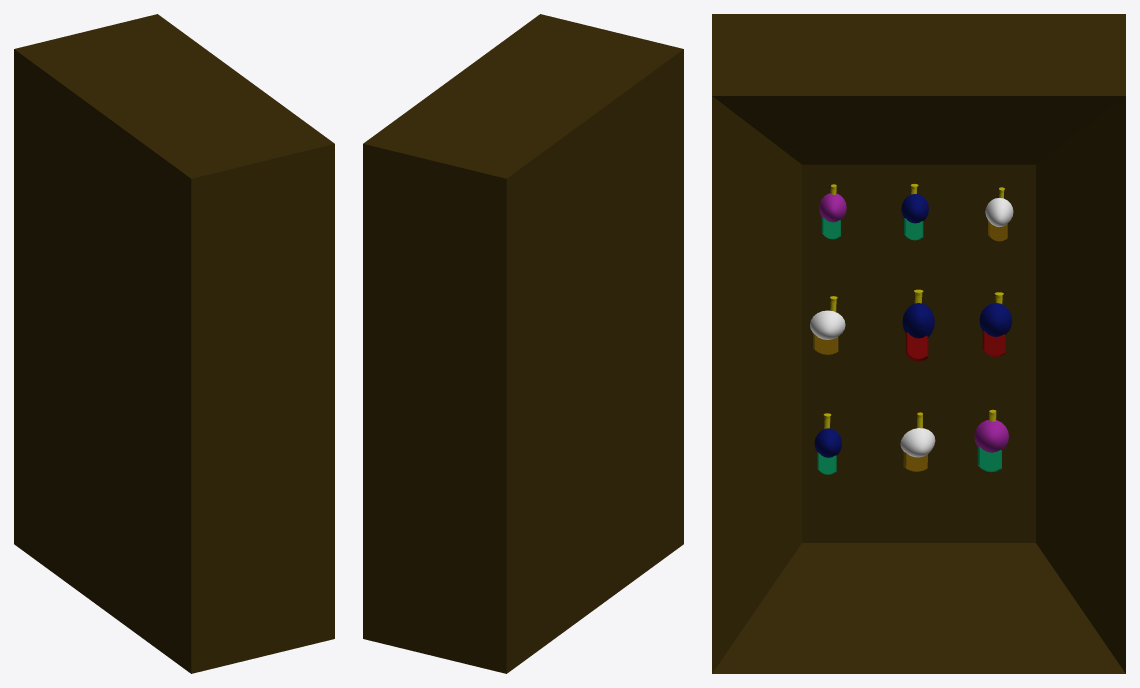
File: HatDisplay1.fbx
3 renders of one model, left to right at view 1: azimuth 30°, elevation 25°; view 2: azimuth 150°, elevation 25°; view 3: azimuth 270°, elevation 25°, orthographic. The views are drawn at different scales.
Visible parts, largest first — view 1: hatrack:polySurface94; view 2: hatrack:polySurface94; view 3: hatrack:polySurface94.
Part boxes in pixels (x1,y1,x2,y2): hatrack:polySurface94: [14, 14, 334, 673]; hatrack:polySurface94: [363, 14, 683, 673]; hatrack:polySurface94: [712, 14, 1125, 673].
Size of the model in its own units: 1.72 by 5.68 by 3.69.
